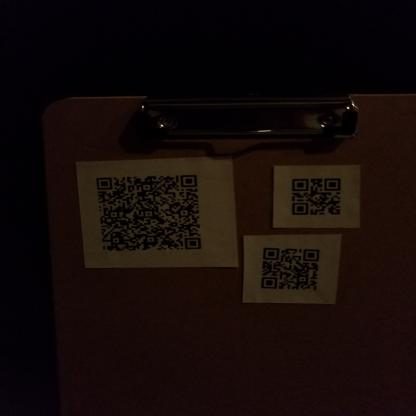qr: (93, 174, 207, 251), (258, 244, 322, 291), (290, 176, 341, 219)
